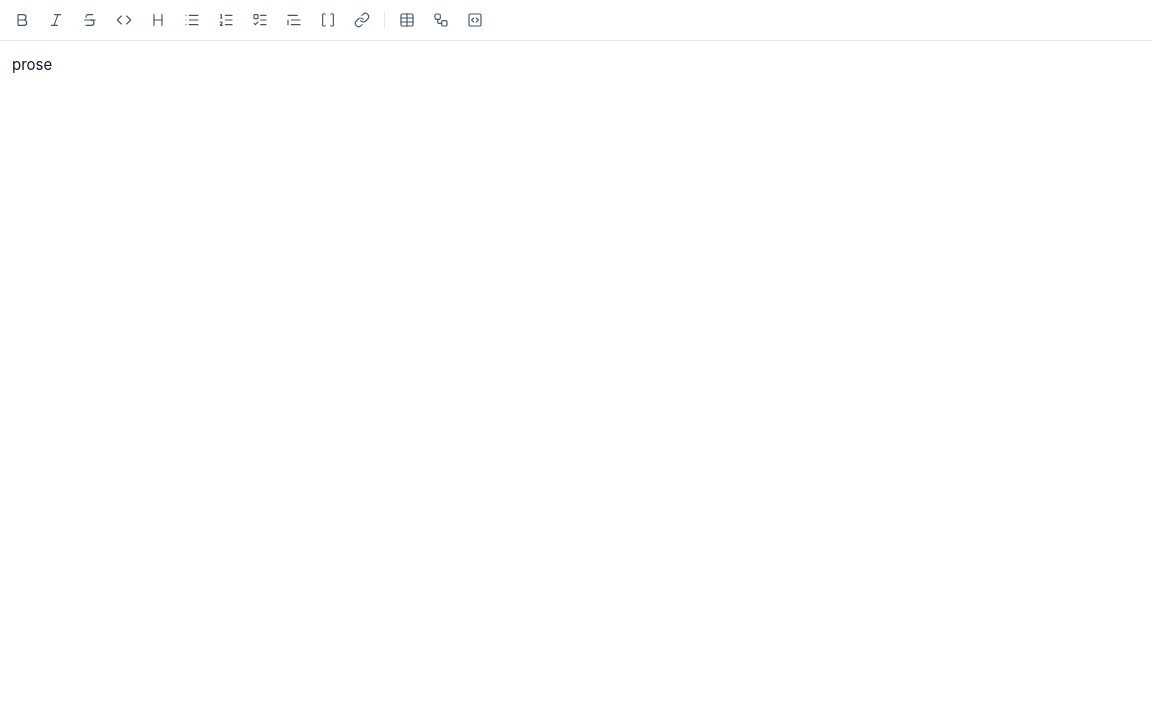
it: the diagram menu › offers sixteen starters under three group labels
Step 1. Click the button named "Insert diagram" → (441, 20), box [425,4,457,36]
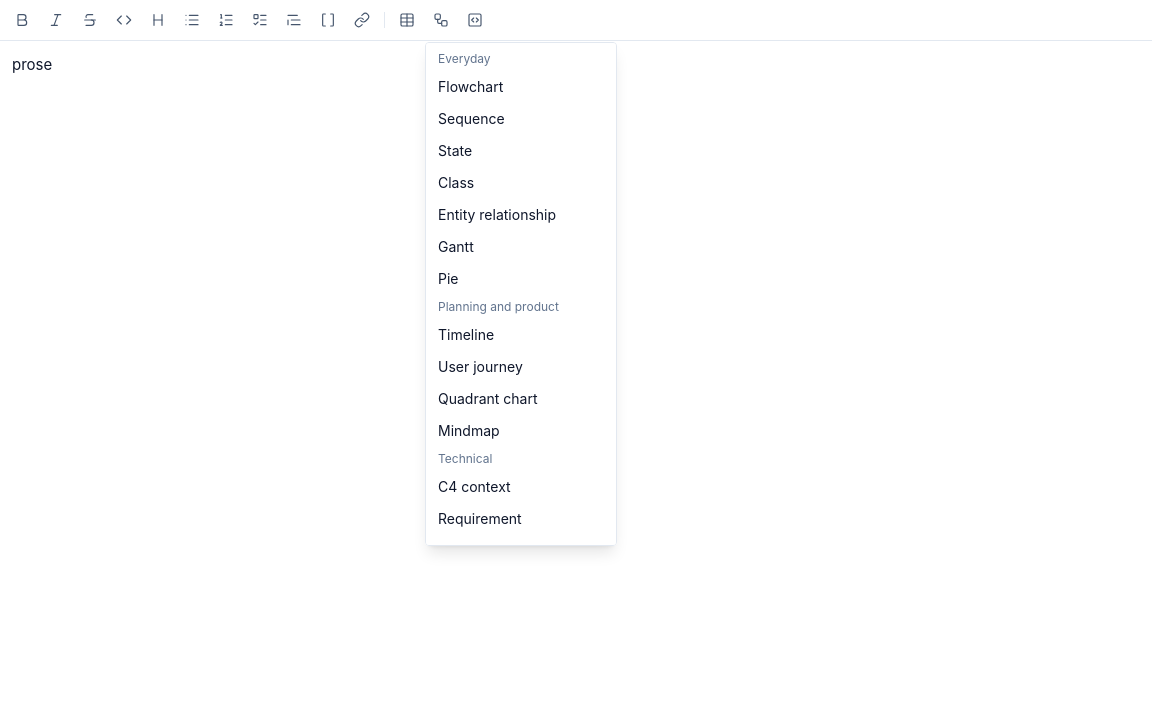
Expected: the text "Everyday" is shown, [438,51,491,66]
Expected: the text "Planning and product" is shown, [438,299,559,314]
Expected: the text "Technical" is shown, [438,451,492,466]
